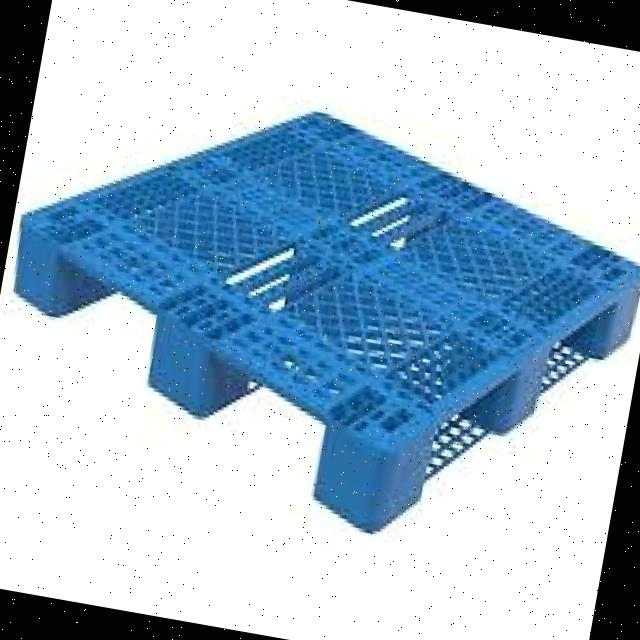block: (311, 426, 434, 533), (146, 305, 215, 420), (13, 220, 70, 321), (507, 337, 552, 436), (606, 278, 639, 356)
front: (17, 222, 383, 533)
hole pallet: (204, 353, 331, 493), (62, 261, 159, 376)
